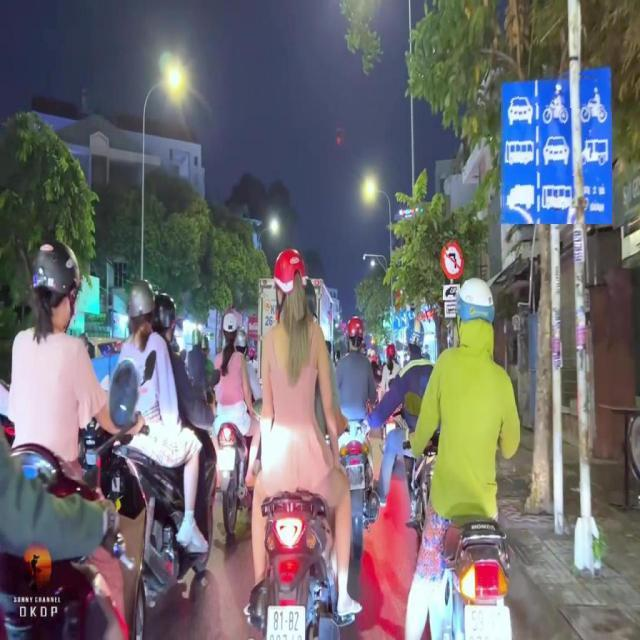123a-cam-re-trai: (439, 242, 464, 278)
